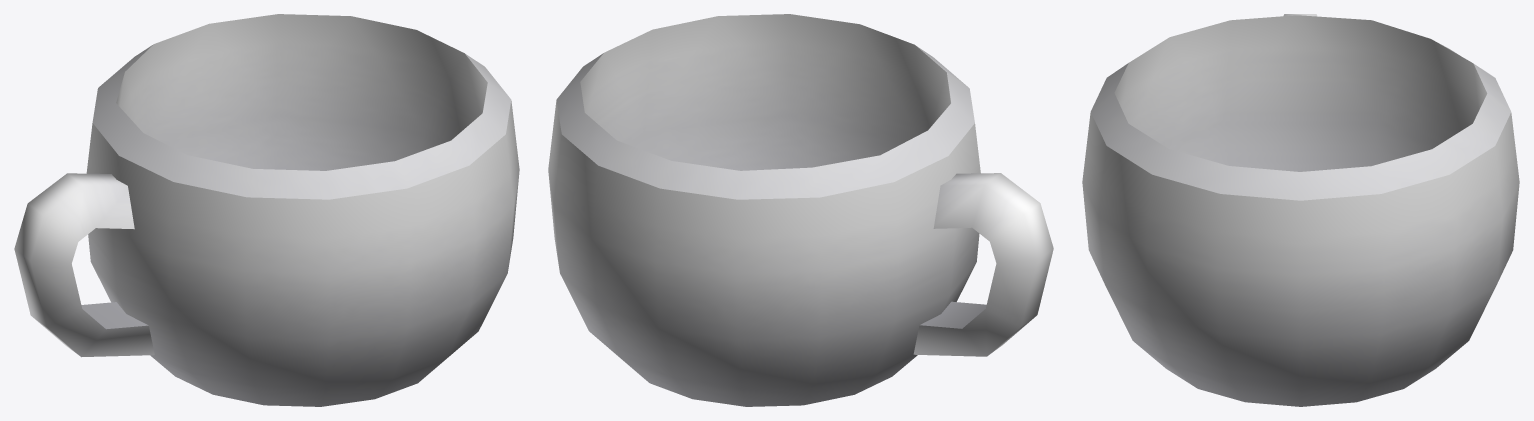
File: m_Cup01.fbx
3 views of the same model, side by side, from view 1: azimuth 30°, elevation 25°; view 2: azimuth 150°, elevation 25°; view 3: azimuth 270°, elevation 25° (orthographic).
Parts seen in each view (by area): view 1: m_Cup01; view 2: m_Cup01; view 3: m_Cup01.
Part boxes in pixels (x1=…): m_Cup01: x1=14, y1=14, x2=519, y2=406; m_Cup01: x1=548, y1=14, x2=1053, y2=406; m_Cup01: x1=1082, y1=14, x2=1519, y2=406.
Bounding box in the file's own units: 14.34 × 7.38 × 11.6.
